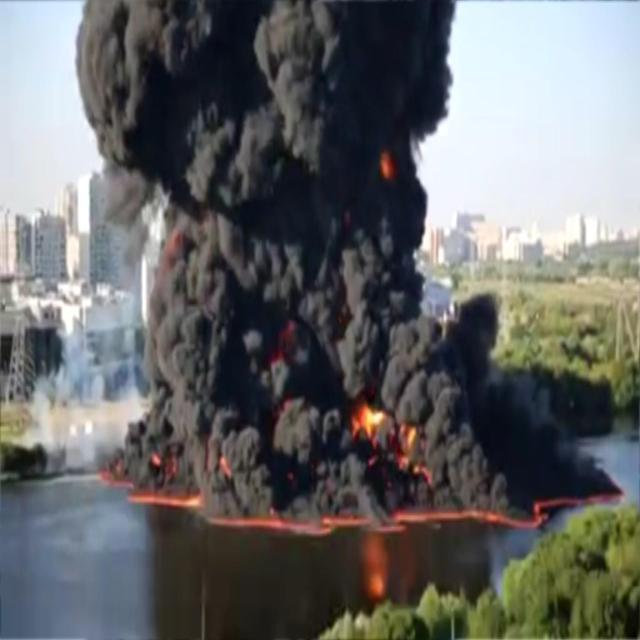Fire: (209, 517, 371, 533), (394, 513, 540, 526), (362, 535, 388, 595), (352, 403, 384, 438), (130, 493, 202, 508), (396, 423, 416, 468), (381, 150, 392, 180), (220, 455, 233, 477), (151, 452, 163, 467)
Smoke: (73, 0, 615, 512), (26, 286, 152, 487)
